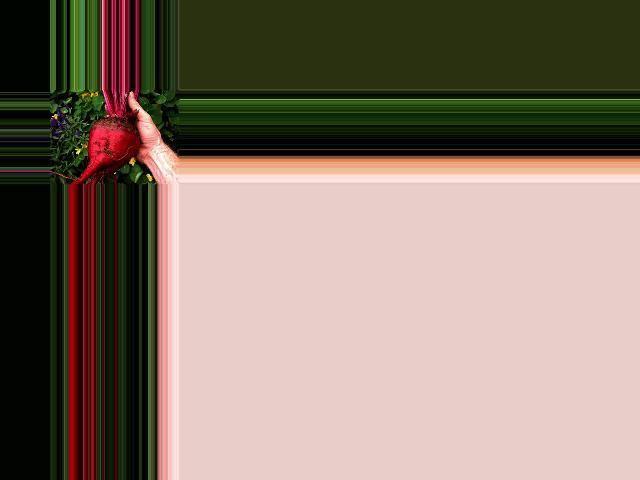beet: (69, 90, 139, 185)
